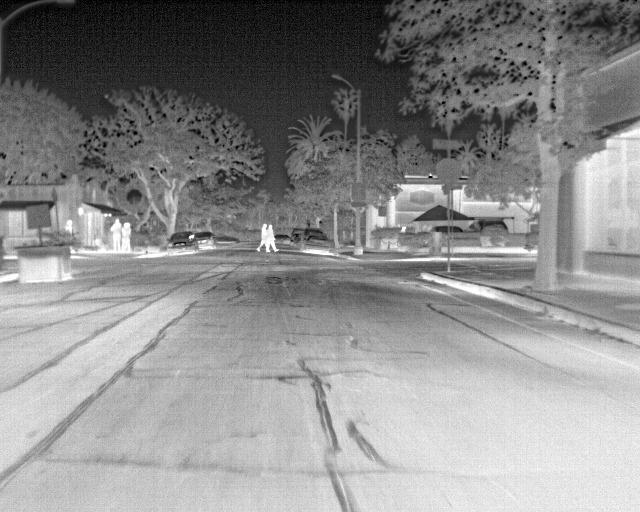bicycle: (165, 230, 199, 254), (464, 217, 509, 233), (304, 234, 335, 252), (193, 232, 215, 249)
empty: (264, 223, 282, 253), (255, 224, 273, 254), (108, 218, 124, 251), (121, 221, 135, 253)
